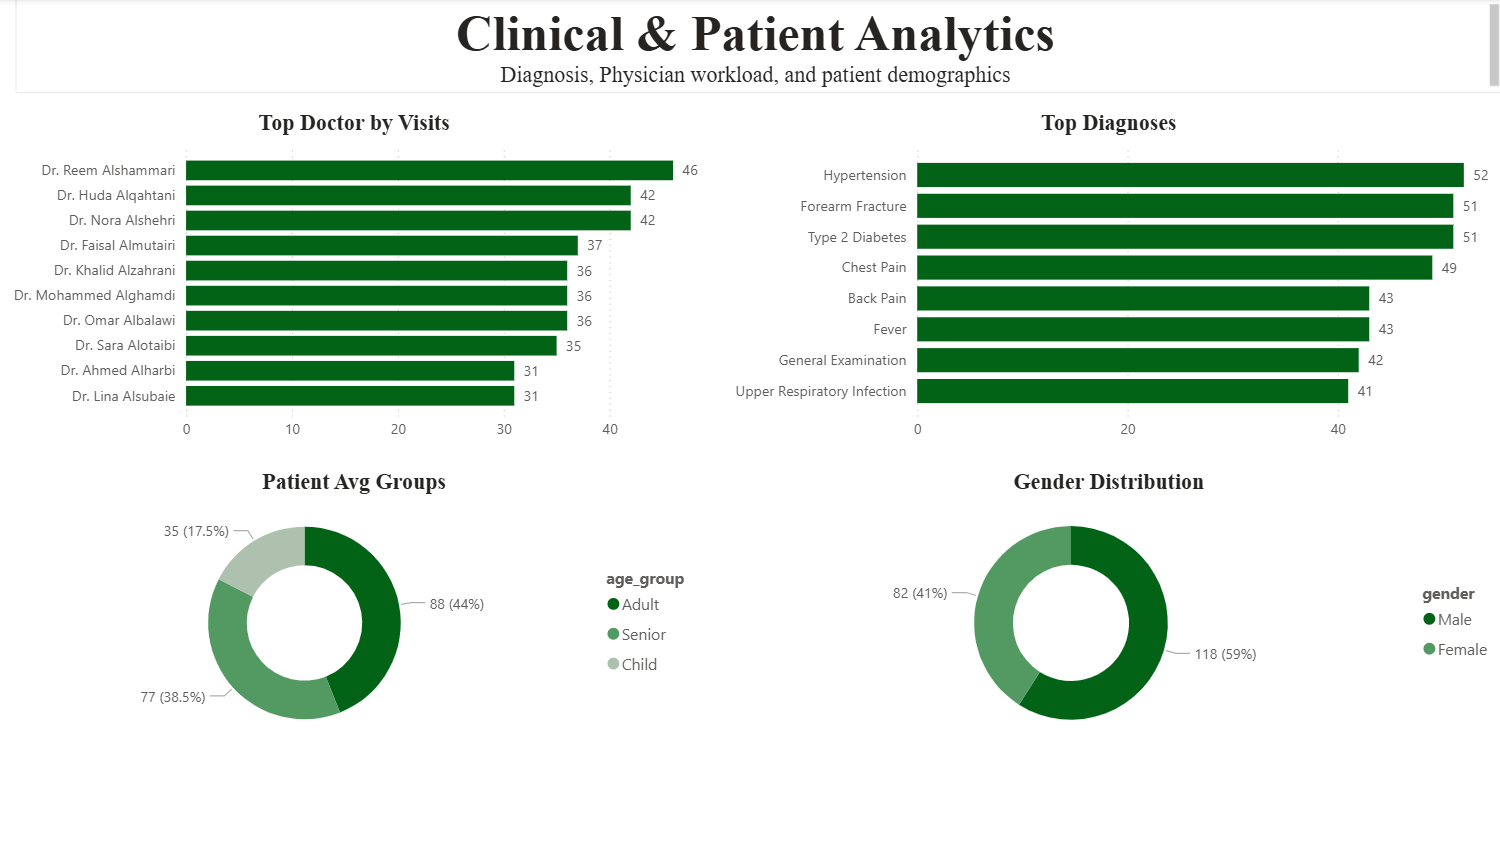

The page's visual inventory and layout, read from the dashboard file:
{"tool":"powerbi","page":{"name":"Clinical Analytics","canvas":[1280,720],"ordinal":1},"visuals":[{"type":"clusteredBarChart","title":"Top Doctor by Visits","fields":{"Category":["doctor_ranking.doctor_name"],"Y":["Sum(doctor_ranking.total_visits)"]},"box":[0,96,608,288],"z":0},{"type":"clusteredBarChart","title":"Top Diagnoses","fields":{"Category":["top_diagnoses.diagnosis_name"],"Y":["Sum(top_diagnoses.total_cases)"]},"box":[608,96,672,288],"z":1000},{"type":"donutChart","title":"Gender Distribution","fields":{"Category":["gender_distribution.gender"],"Y":["Sum(gender_distribution.total_patients)"]},"box":[608,400,672,240],"z":2000},{"type":"donutChart","title":"Patient Avg Groups","fields":{"Category":["age_groups.age_group"],"Y":["Sum(age_groups.total_patients)"]},"box":[0,400,608,240],"z":3000},{"type":"textbox","box":[16,0,1264,80],"z":4000}]}

Visuals, with their boxes in screenshot pixels (x1, y1, x2, y2), scaled from the page's 1280x720 canvas onto the 1500x841 screenshot:
"Top Doctor by Visits" clusteredBarChart: bbox=(0, 112, 712, 449)
"Top Diagnoses" clusteredBarChart: bbox=(712, 112, 1499, 449)
"Gender Distribution" donutChart: bbox=(712, 467, 1499, 748)
"Patient Avg Groups" donutChart: bbox=(0, 467, 712, 748)
textbox: bbox=(19, 0, 1499, 93)
